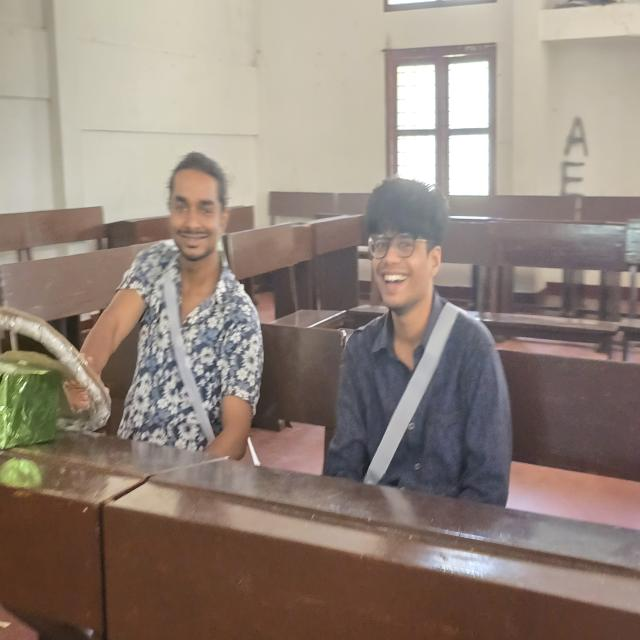seatbelt: (351, 322, 484, 473), (152, 265, 234, 439)
